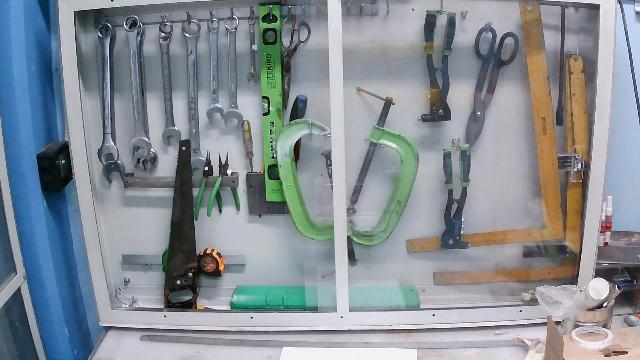tang_cucut_lancip_1: (213, 145, 243, 218)
